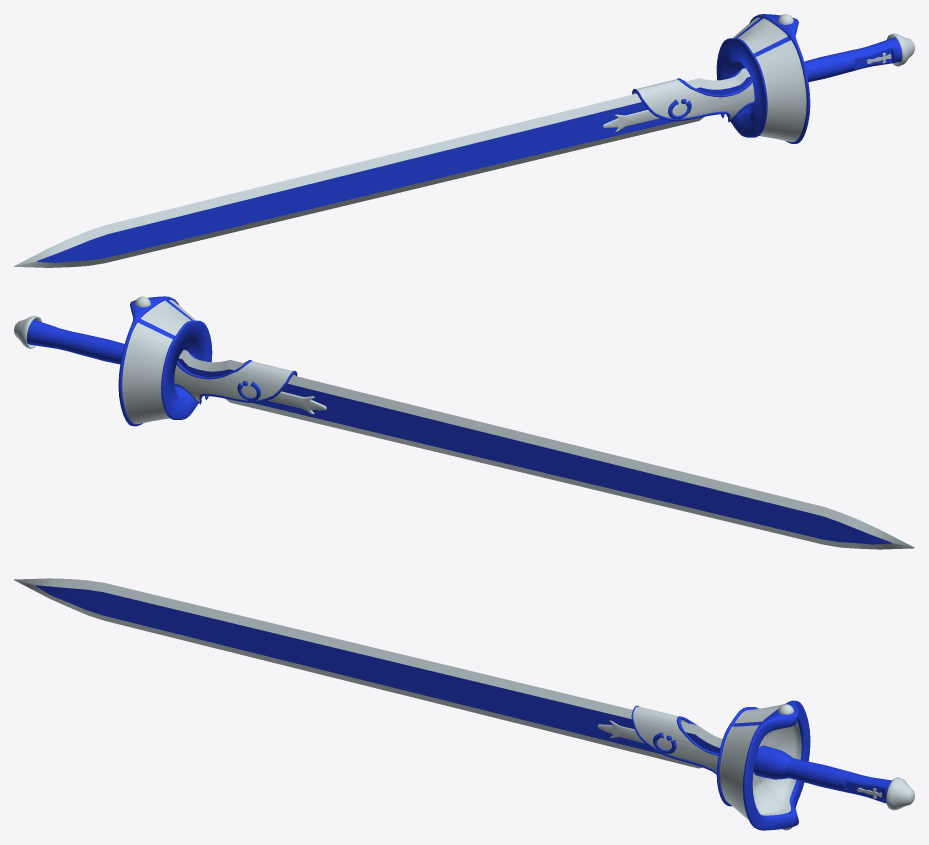
The model's file is Sword1.fbx.
3 views of the same model, one above another, from view 1: azimuth 30°, elevation 25°; view 2: azimuth 150°, elevation 25°; view 3: azimuth 330°, elevation 25° (orthographic).
Parts seen in each view (by area): view 1: Sword1; view 2: Sword1; view 3: Sword1.
Boxes of the visible parts, bbox=[...] form: Sword1: bbox=[14, 14, 914, 267]; Sword1: bbox=[14, 296, 914, 549]; Sword1: bbox=[14, 578, 914, 830].
Bounding box in the file's own units: 1.17 × 0.1545 × 0.1479.
